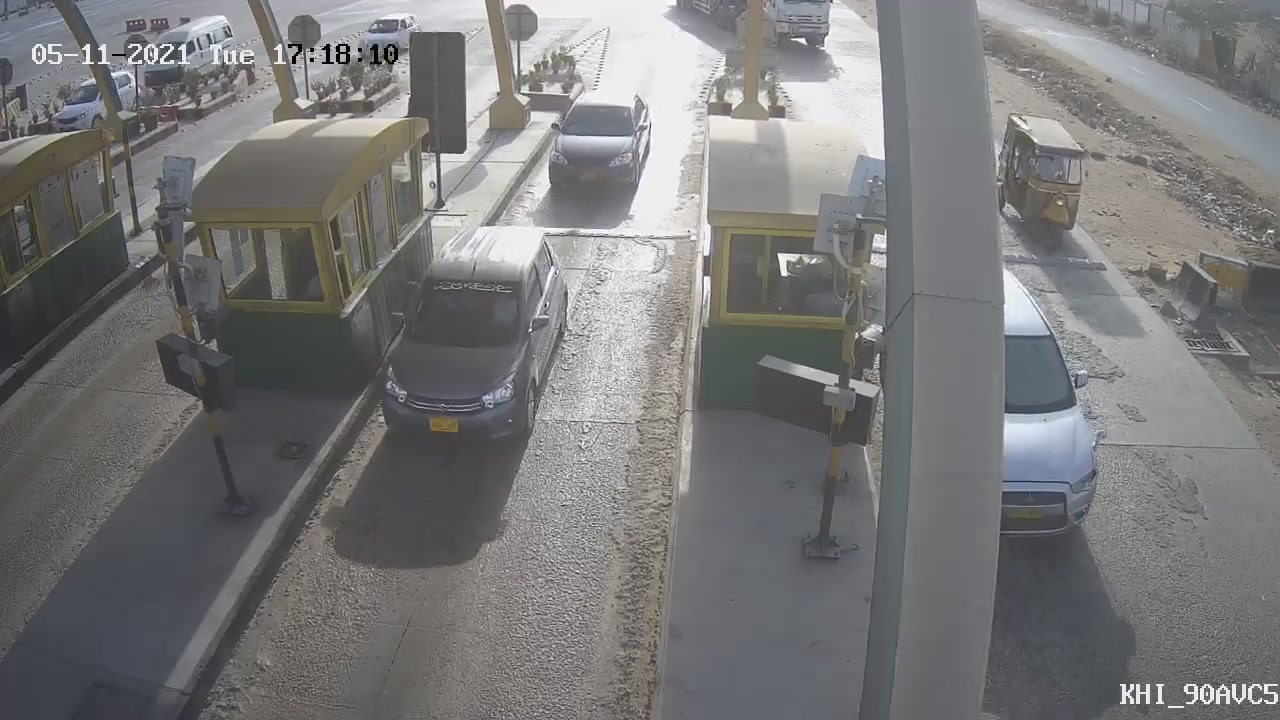F1: (353, 208, 587, 470), (520, 73, 674, 218)
